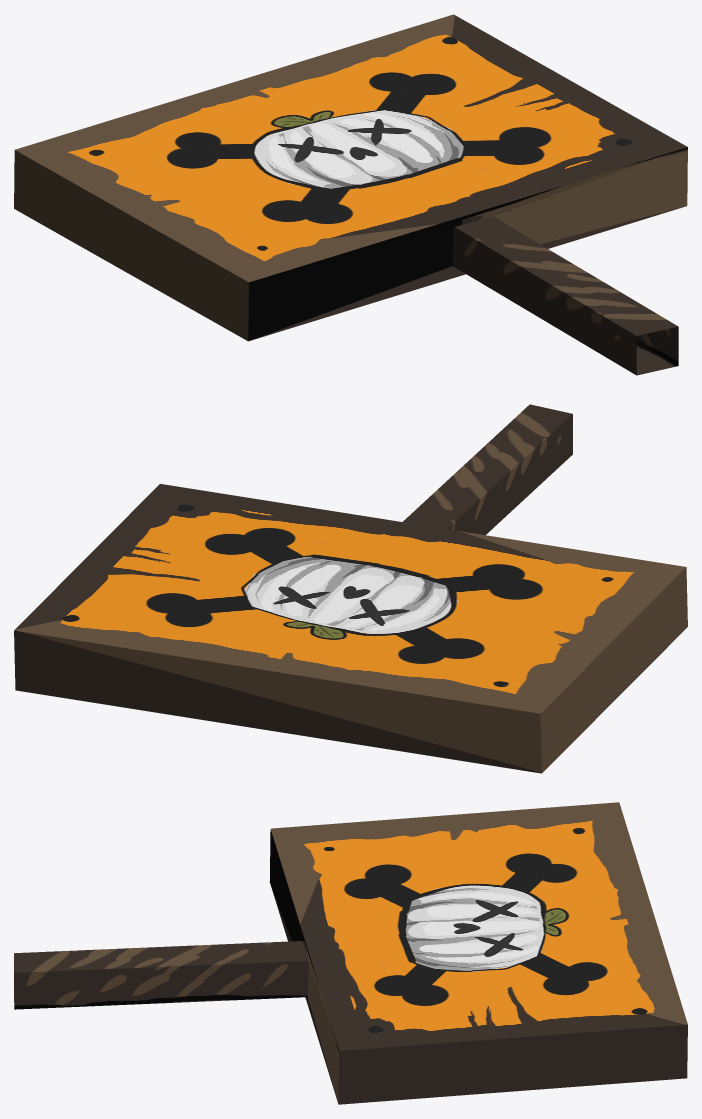
The model's file is Pumpkin_prop_sign 1.fbx.
3 views of the same model, one above another, from view 1: azimuth 30°, elevation 25°; view 2: azimuth 150°, elevation 25°; view 3: azimuth 270°, elevation 25° (orthographic). The views are drawn at different scales.
Parts seen in each view (by area): view 1: Cube; view 2: Cube; view 3: Cube.
Part boxes in pixels (left/top/right/bottom): Cube: left=14, top=14, right=687, bottom=375; Cube: left=14, top=404, right=687, bottom=773; Cube: left=14, top=802, right=687, bottom=1104.
Size of the model in its own units: 283 by 37.38 by 341.
